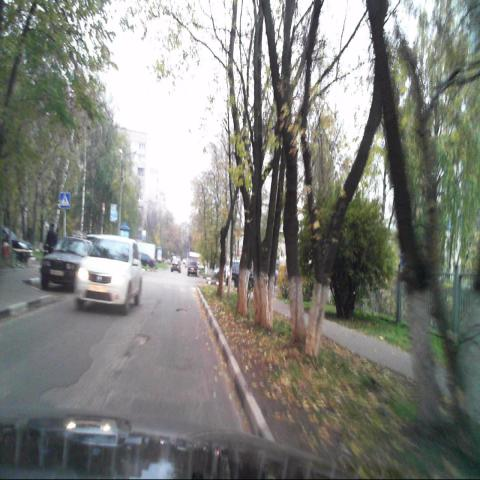5_19_1: (62, 192, 70, 208)
